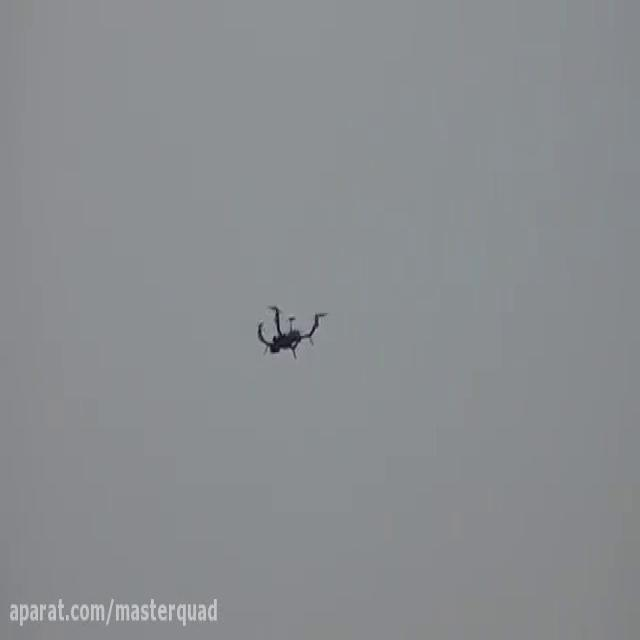drone: (253, 297, 331, 364)
